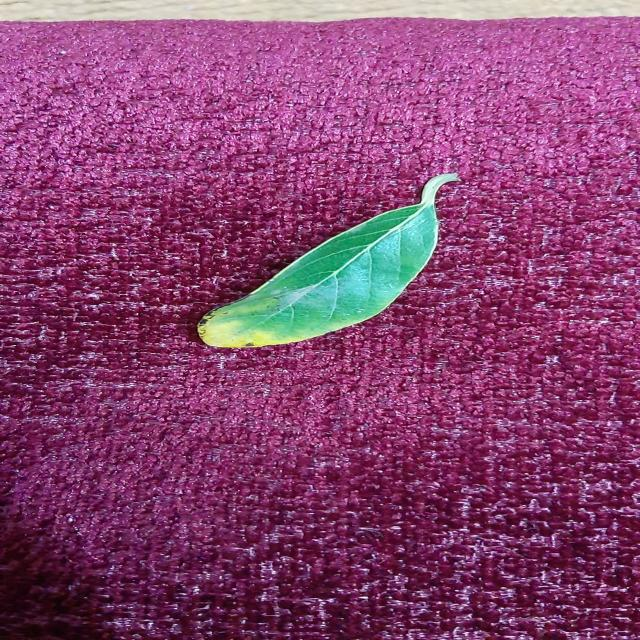seethaphala: (198, 174, 458, 348)
